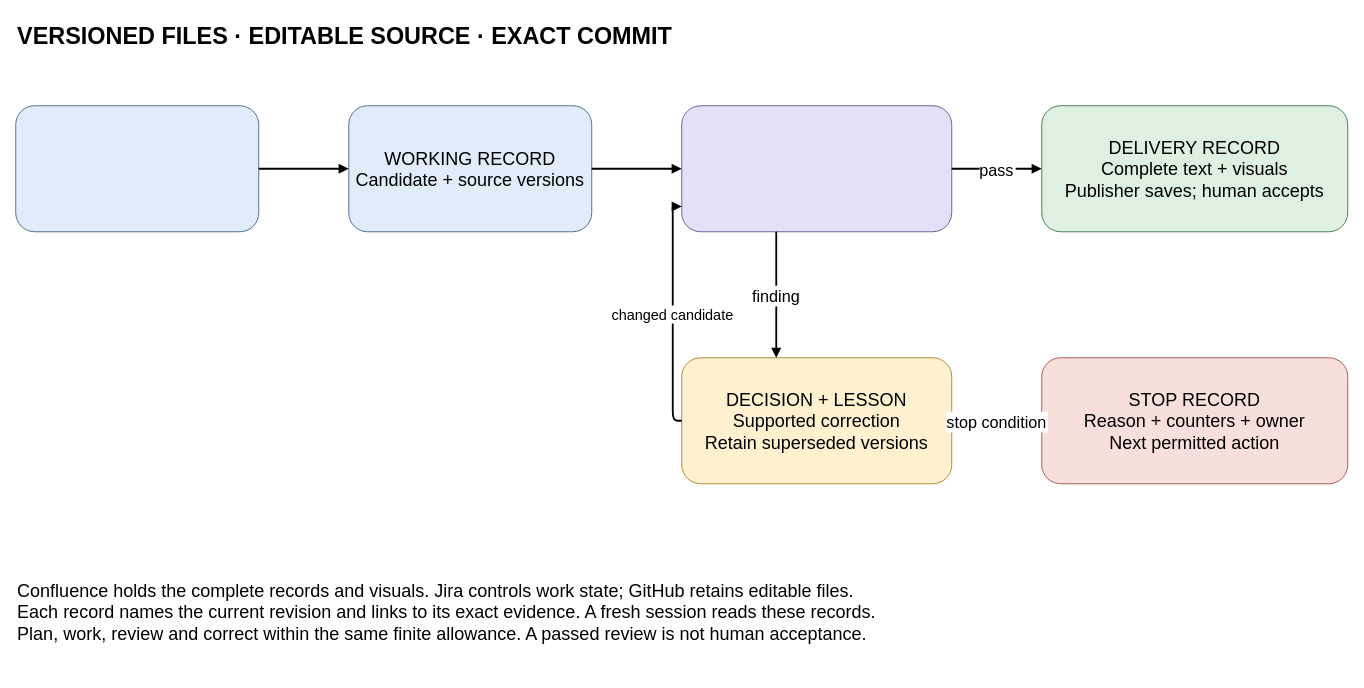
Some shapes in this 1364 by 688 pixel diagram are drawn without their labels. Here are the shapes that lost their labels. From the top down, the centre of each, then its label:
At point 137,168: "PLAN RECORD Intent + inputs + limits".
At point 816,168: "REVIEW RECORD Full report + findings".
